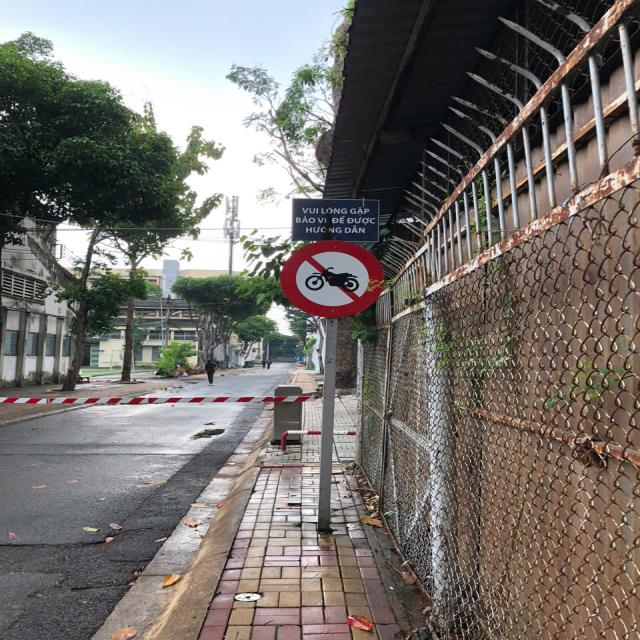Bien bao cam xe may: (277, 239, 394, 320)
